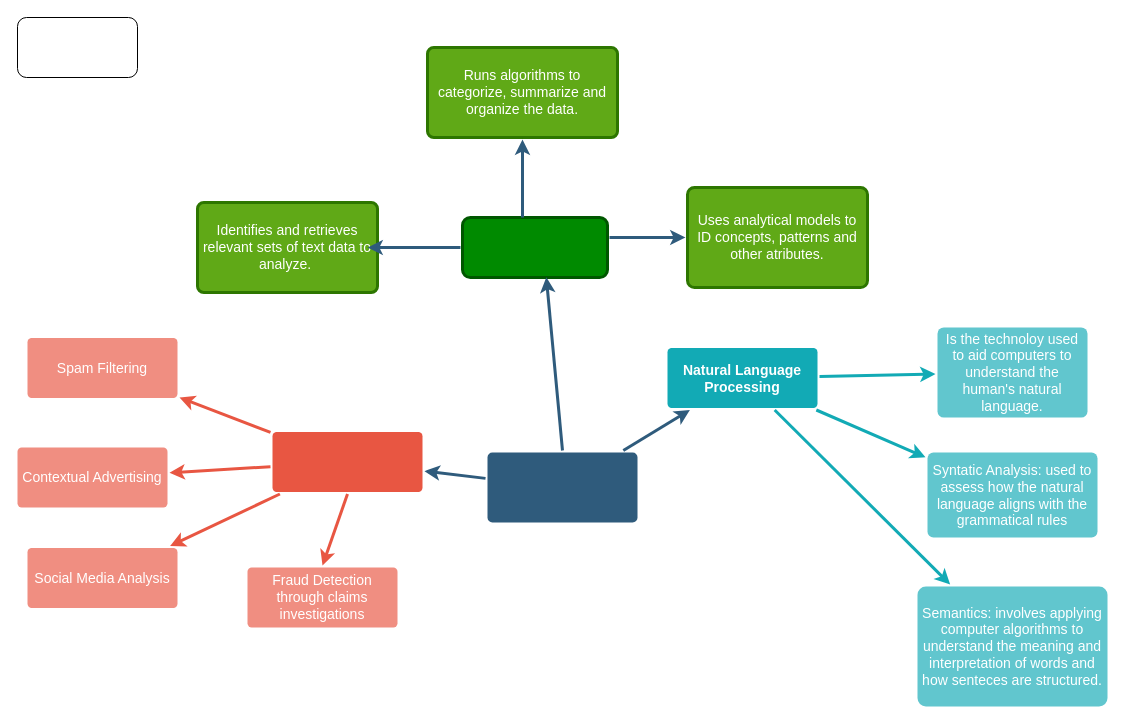
This 1125x724 diagram has some shape labels left out. Here are the shapes that lost their labels. From the top down, the centre of each, then its label:
the point at 77,47: Jua Juan Carlos Giron 19000607
the point at 534,247: The Text Mining Process
the point at 347,462: Text Mining Applications
the point at 562,487: Introduction to Text Mining
